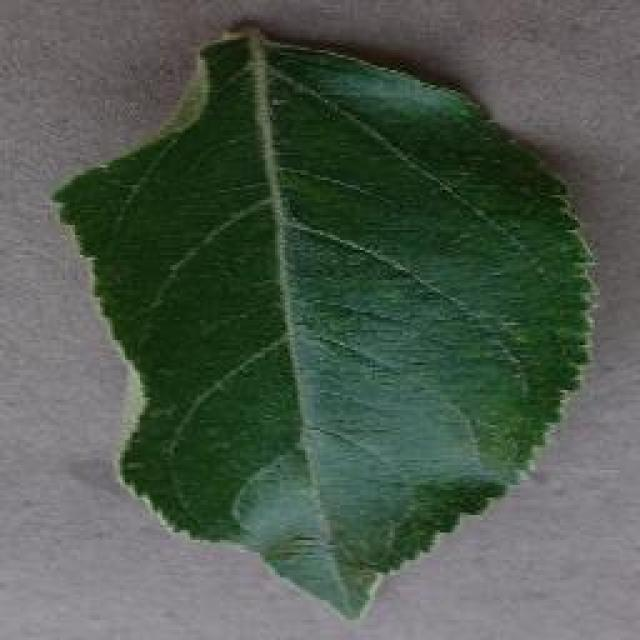apple healthy: (50, 20, 600, 620)
